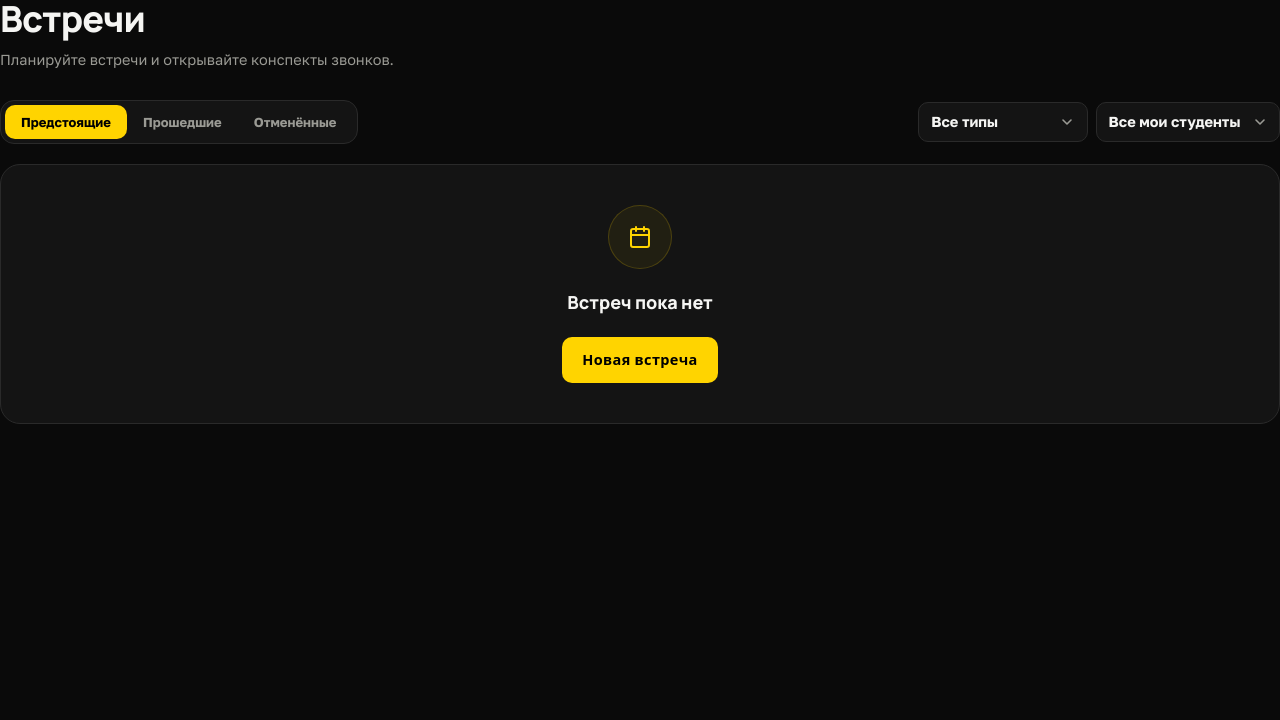
Test: создание доступно в пустом состоянии, проверяет обязательные поля и подставляет название
The image size is (1280, 720).
Click the button "Новая встреча" at (640, 360), box top-left (562, 337), bottom-right (718, 383)
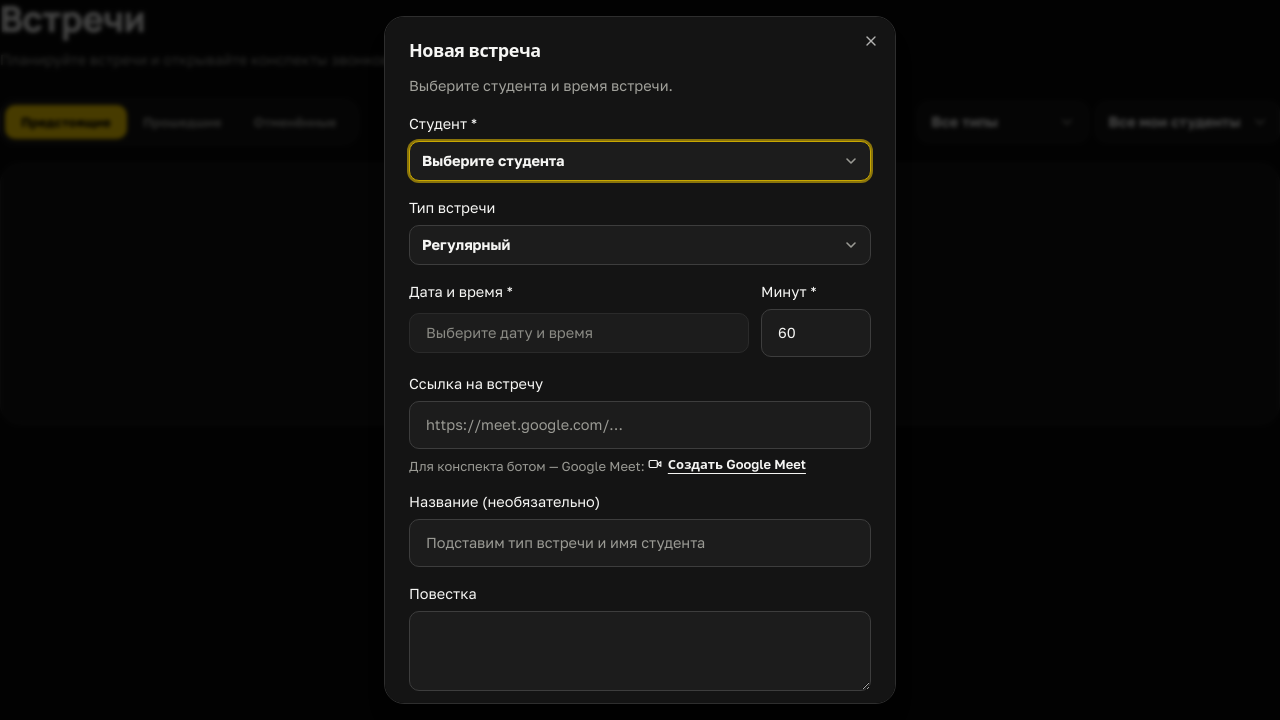
Result: the text "Выберите дату и время" is shown at top-left (409, 313), bottom-right (749, 353)
Select "Анна Тест" in the dropdown labelled "Студент" at (640, 161), box top-left (409, 141), bottom-right (871, 181)
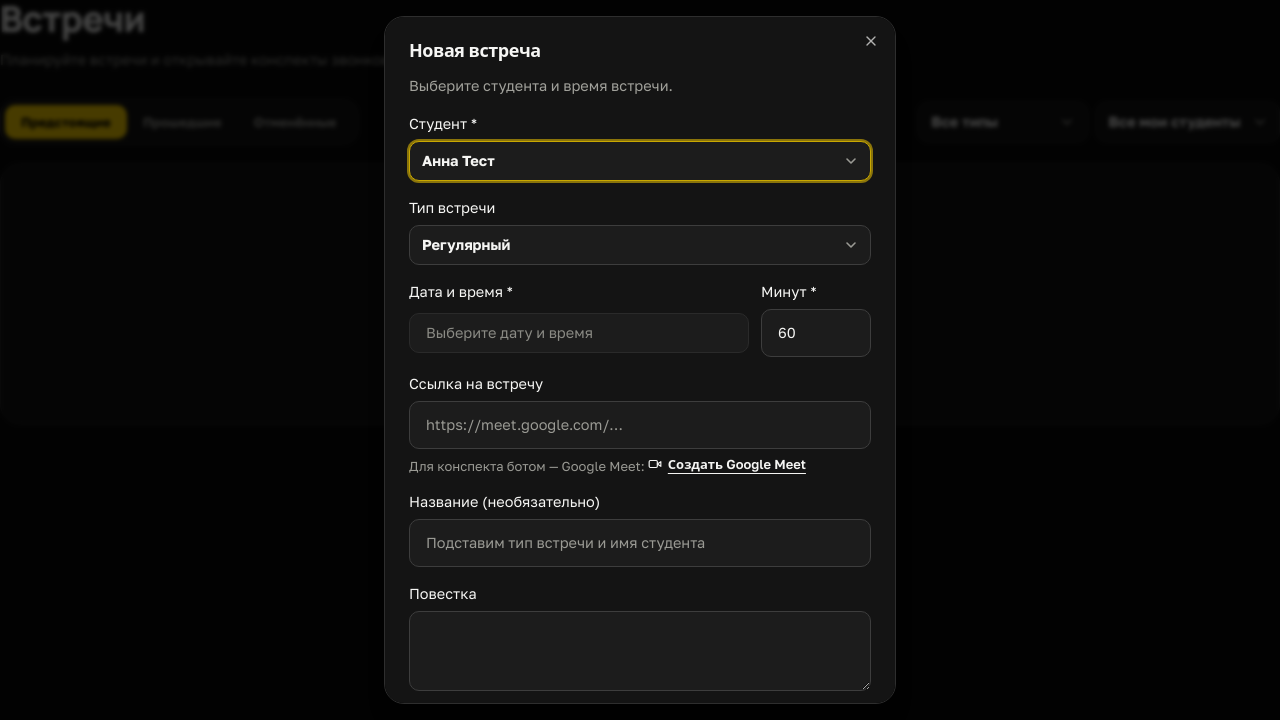
Replace the text in the field labelled "Дата и время" with "2026-10-04T15:30" at (579, 319), box top-left (409, 281), bottom-right (749, 357)
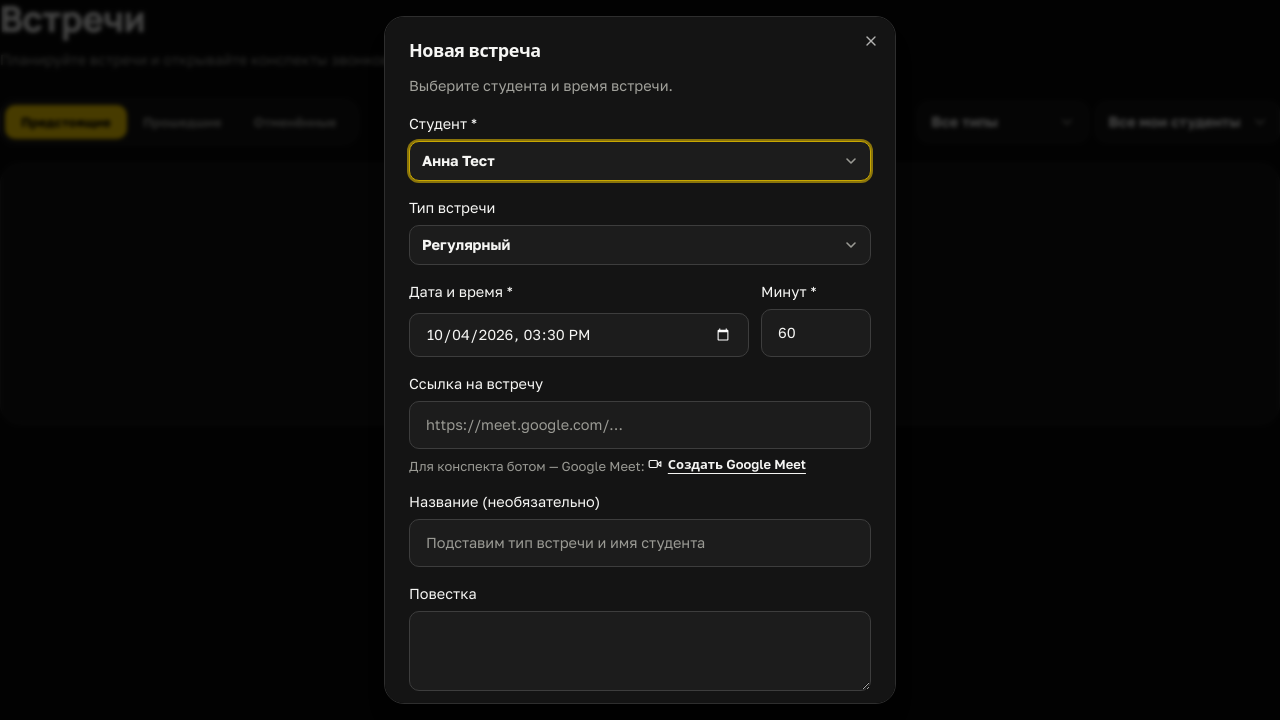
Replace the text in the number field named "Длительность в минутах" with "0.5" at (816, 333), box top-left (761, 309), bottom-right (871, 357)
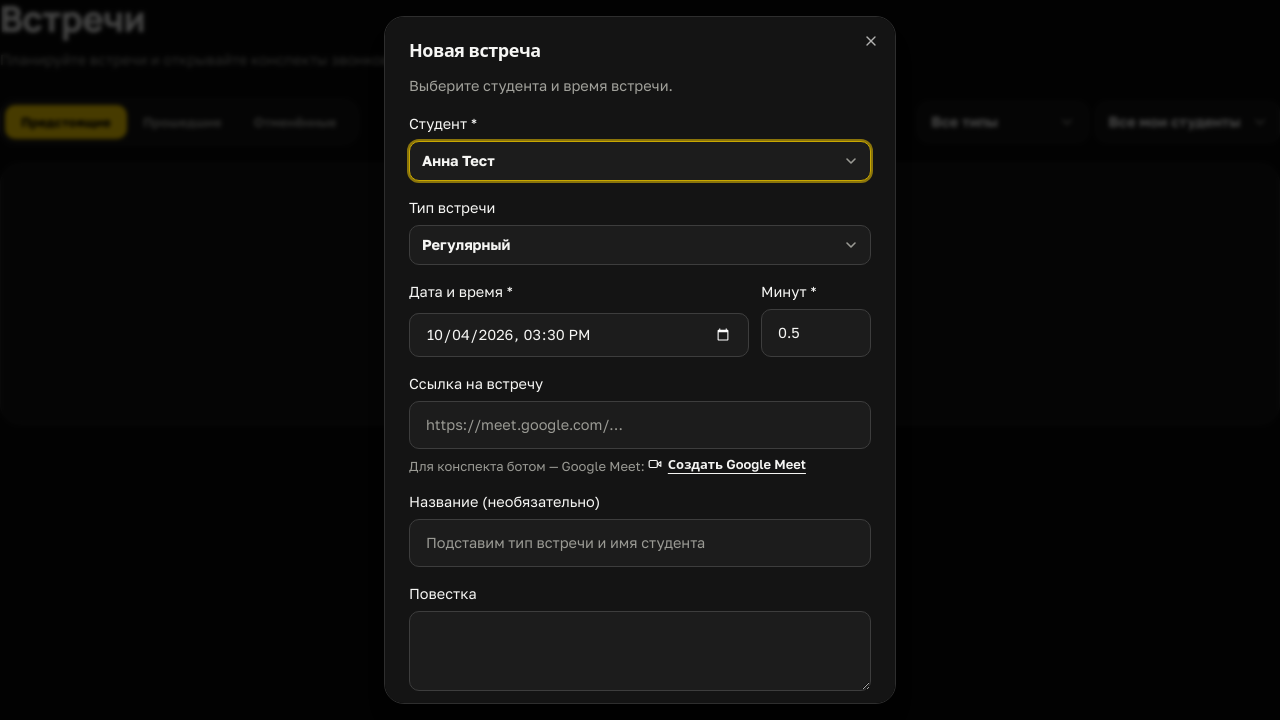
Replace the text in the number field named "Длительность в минутах" with "45" at (816, 333), box top-left (761, 309), bottom-right (871, 357)
(page scrolled)
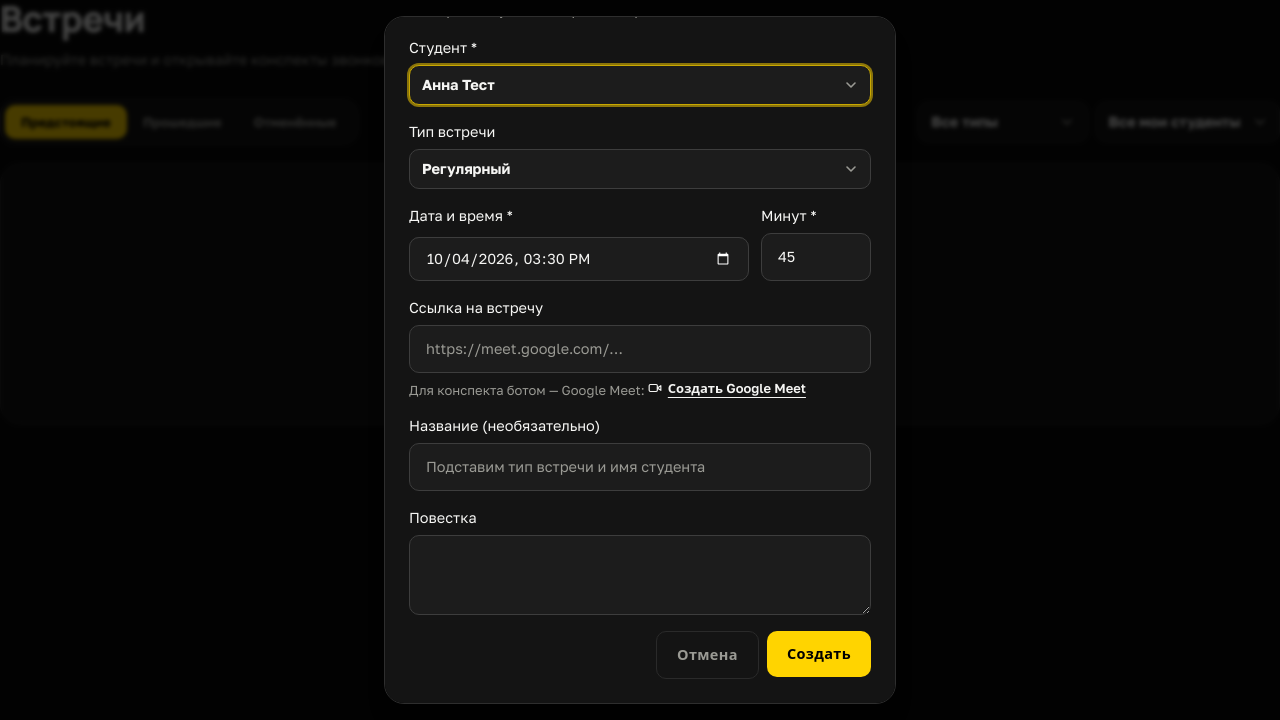
Click the button "Создать" at (819, 654), box top-left (767, 631), bottom-right (871, 677)
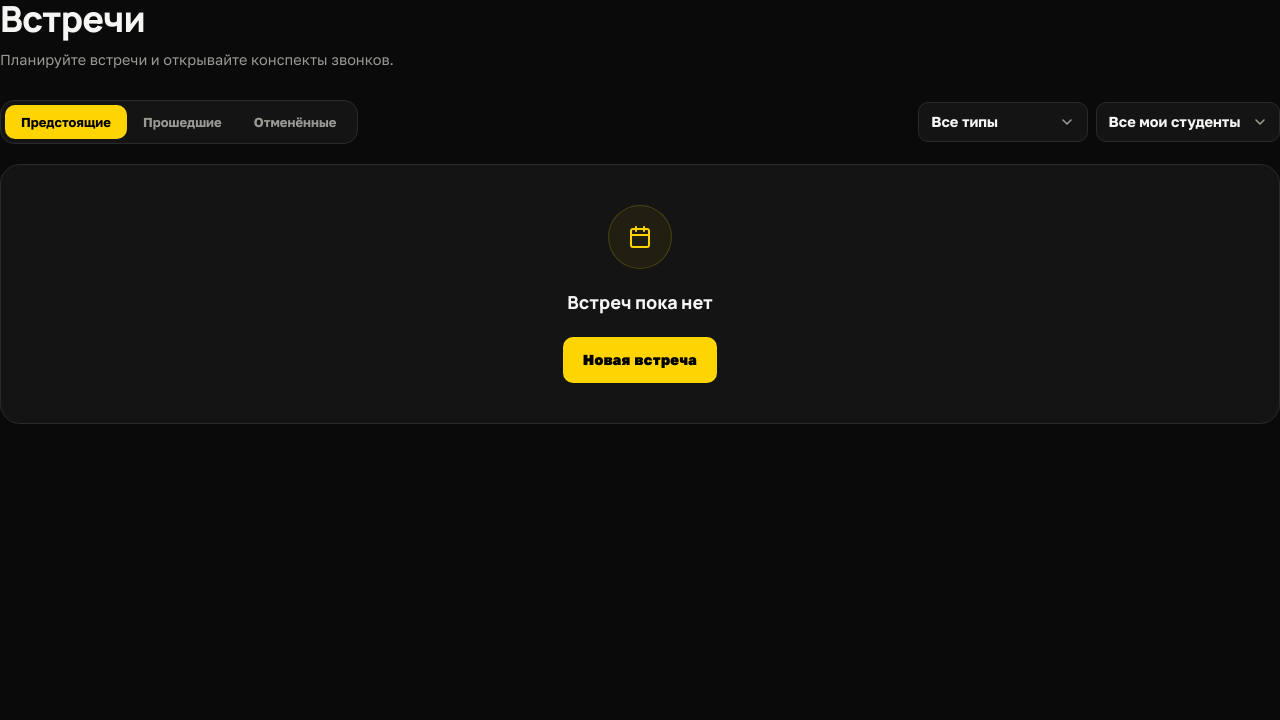
Result: the dialog is gone
